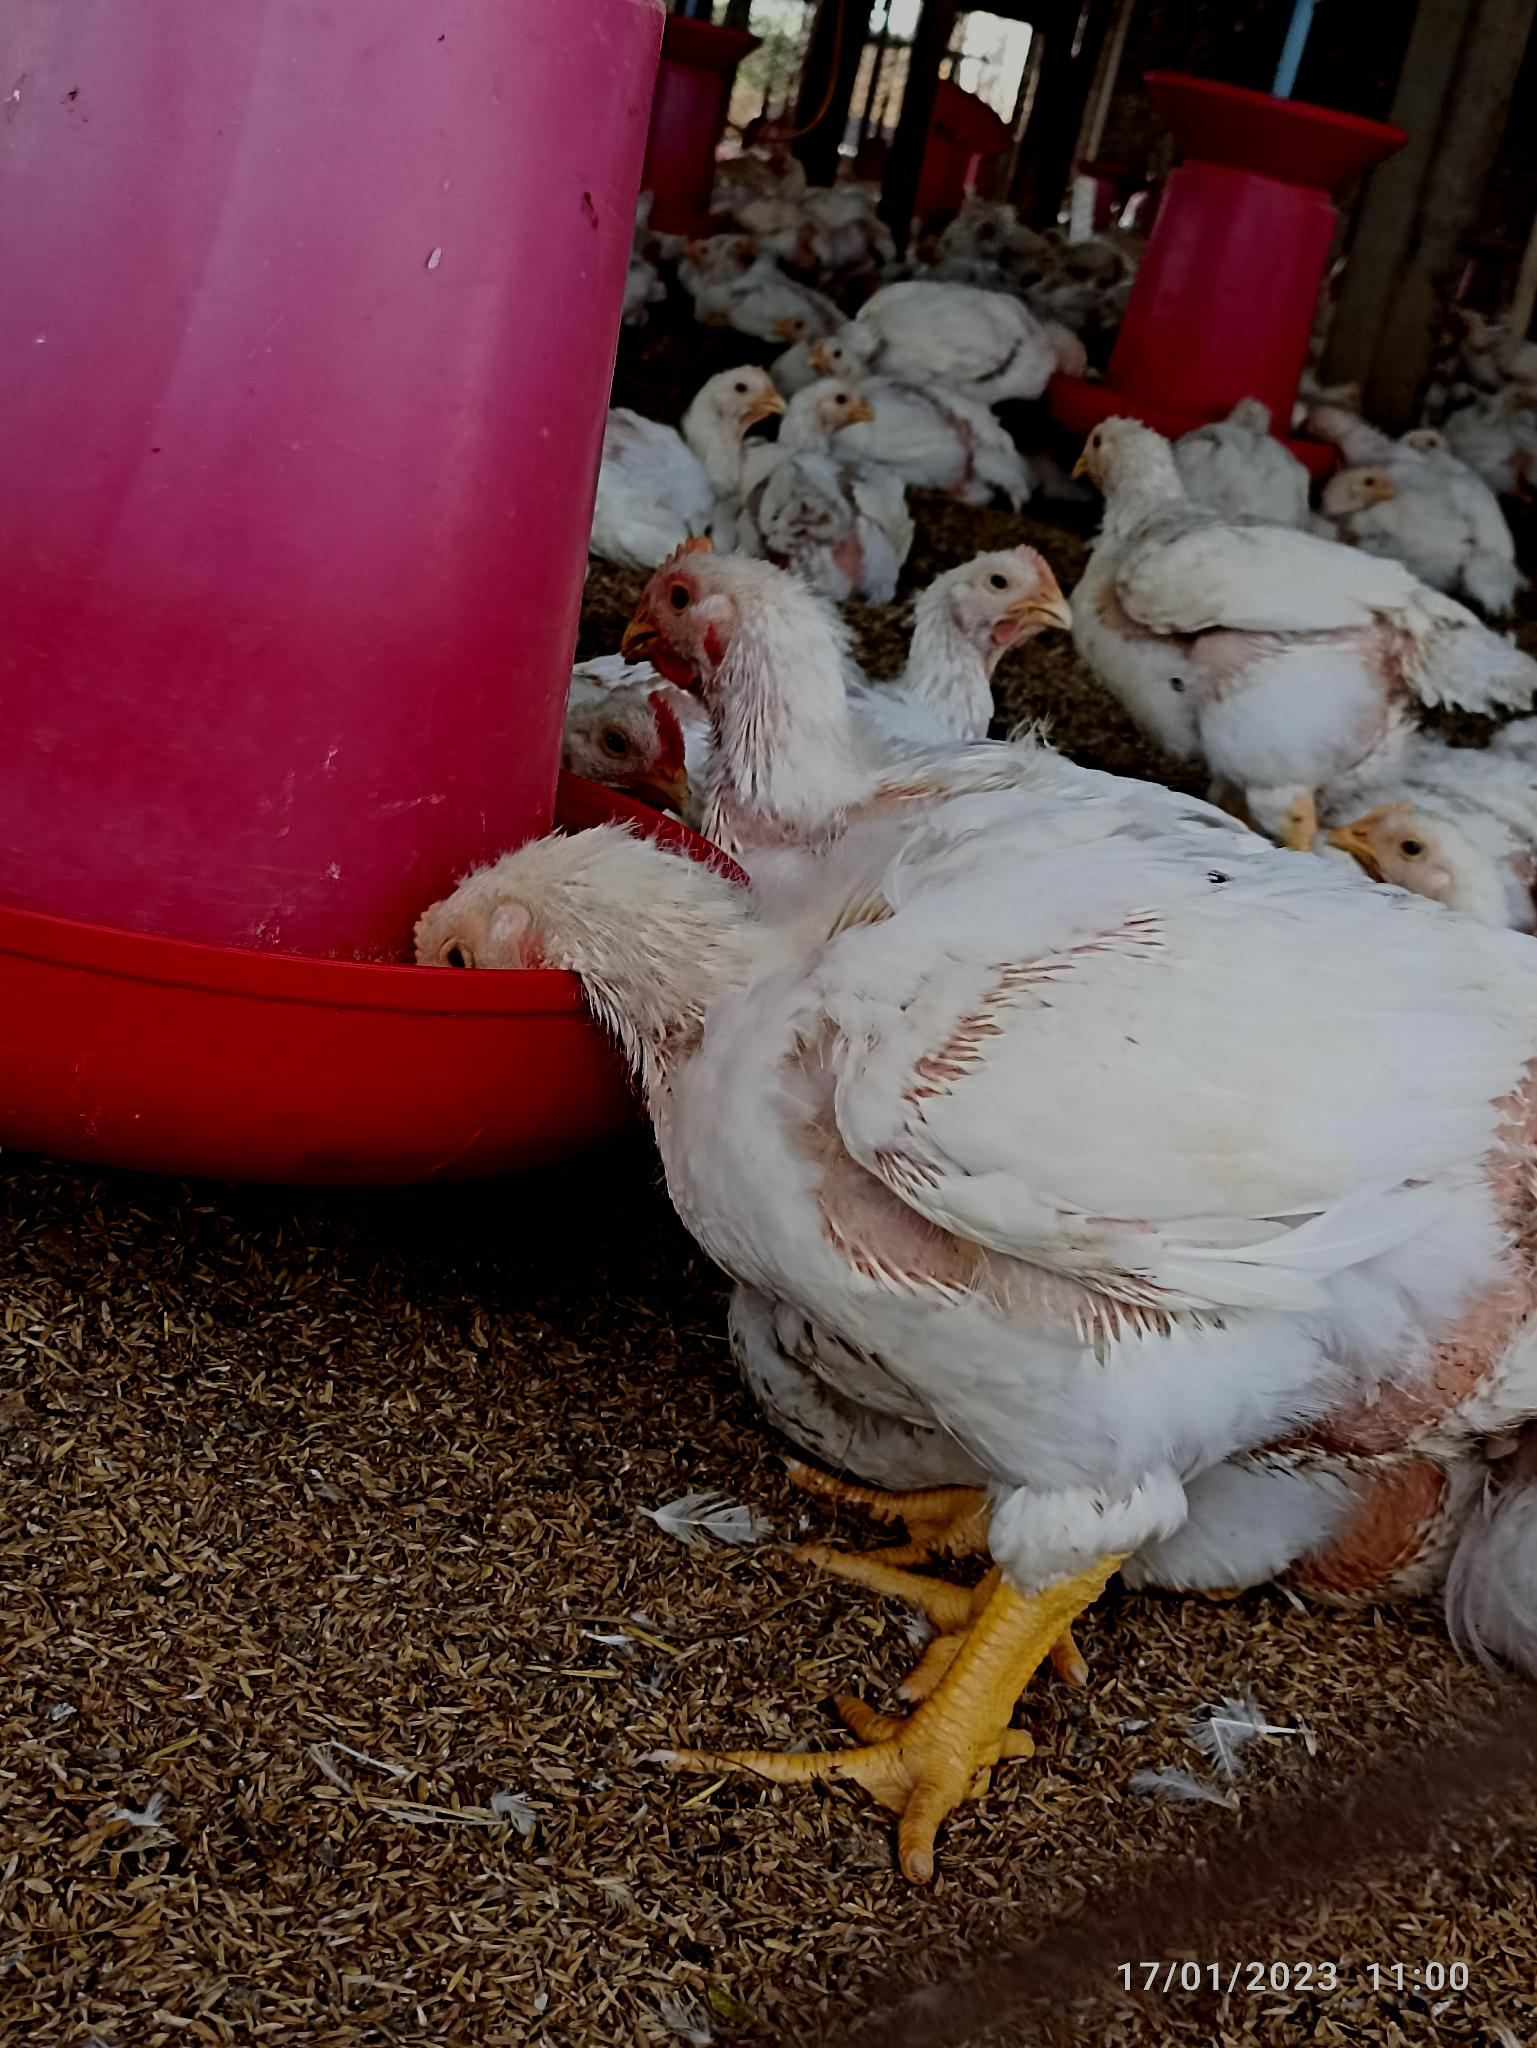Pollos: (417, 812, 1531, 1511), (1070, 423, 1524, 779), (615, 541, 869, 826), (882, 539, 1075, 754), (819, 268, 1074, 387), (610, 362, 781, 521), (778, 362, 869, 512)
